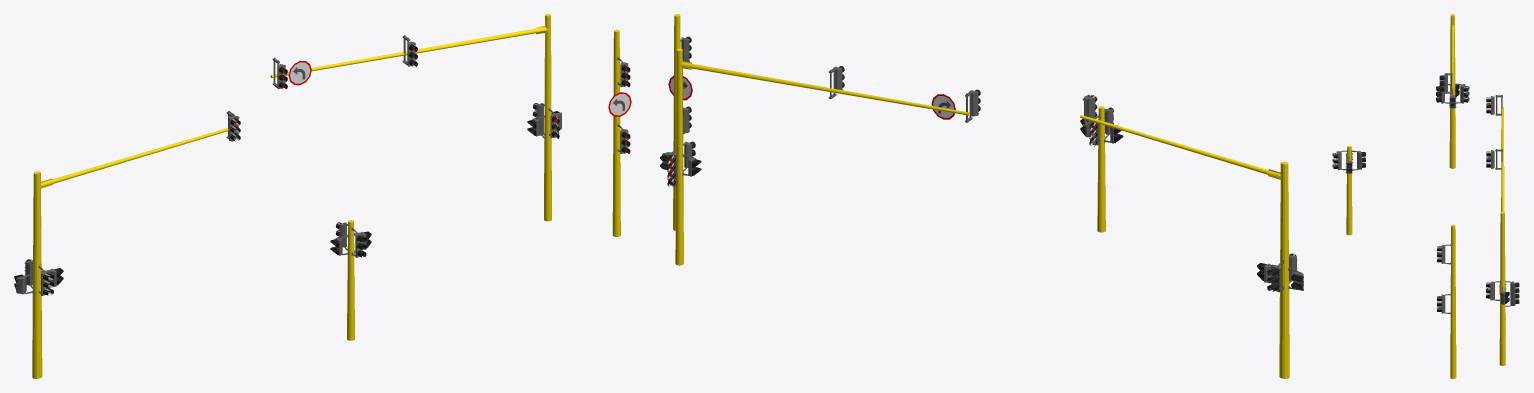
The model's file is semas.gltf.
The picture shows the model from 3 angles, left to right: view 1: azimuth 30°, elevation 25°; view 2: azimuth 150°, elevation 25°; view 3: azimuth 270°, elevation 25°; orthographic projection. The views are drawn at different scales.
Parts seen in each view (by area): view 1: semas; view 2: semas; view 3: semas.
Boxes of the visible parts, x1,y1,x2,y2 form: semas: (14, 14, 631, 378); semas: (660, 14, 1303, 378); semas: (1332, 14, 1519, 378).
Size of the model in its own units: 863 by 309 by 307.
Materials: 15 (6 with a texture image).
